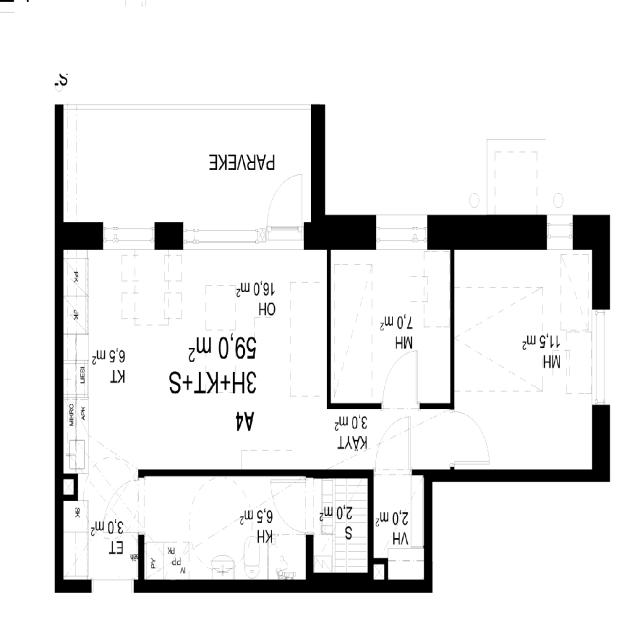door: (372, 438, 425, 582), (261, 166, 310, 245), (446, 402, 496, 467), (378, 346, 424, 414), (270, 476, 314, 540), (371, 416, 417, 477), (541, 202, 580, 268), (119, 472, 148, 532)
window: (368, 205, 436, 256), (586, 301, 613, 418), (96, 215, 162, 254), (184, 223, 268, 252), (121, 471, 147, 537)
zone: (72, 242, 333, 466), (452, 239, 600, 478), (327, 246, 454, 407), (140, 474, 314, 581), (371, 472, 426, 583), (311, 475, 371, 548)
